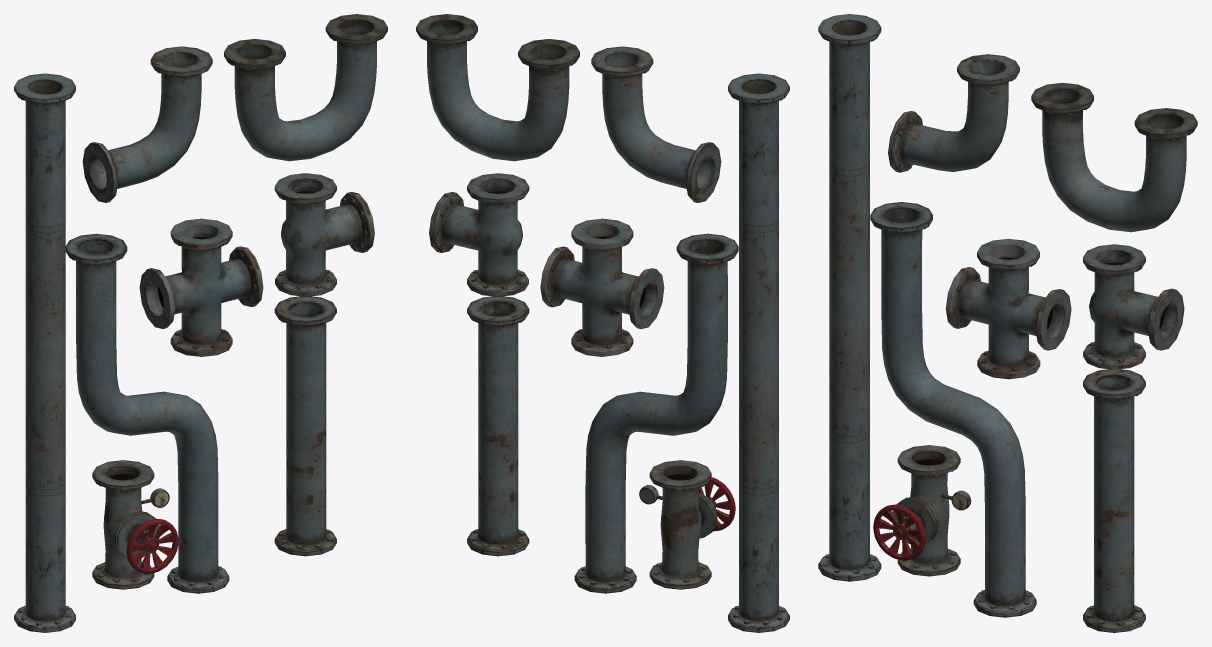
File: modular_industrial_pipes_01.glb
3 views of the same model, side by side, from view 1: azimuth 30°, elevation 25°; view 2: azimuth 150°, elevation 25°; view 3: azimuth 330°, elevation 25° (orthographic).
Visible parts, largest first — view 1: modular_industrial_pipes_01_pipe01, modular_industrial_pipes_01_pipe05; view 2: modular_industrial_pipes_01_pipe01, modular_industrial_pipes_01_pipe05; view 3: modular_industrial_pipes_01_pipe01, modular_industrial_pipes_01_pipe05.
Boxes of the visible parts, left/top/right/bottom form: modular_industrial_pipes_01_pipe01: left=14, top=46, right=336, bottom=632; modular_industrial_pipes_01_pipe05: left=92, top=14, right=387, bottom=589; modular_industrial_pipes_01_pipe01: left=467, top=46, right=789, bottom=632; modular_industrial_pipes_01_pipe05: left=416, top=14, right=735, bottom=589; modular_industrial_pipes_01_pipe01: left=818, top=14, right=1145, bottom=632; modular_industrial_pipes_01_pipe05: left=873, top=82, right=1197, bottom=576.
Bounding box in the file's own units: 1.4 × 1.95 × 0.3076.
Materials: 2 (2 with a texture image).
